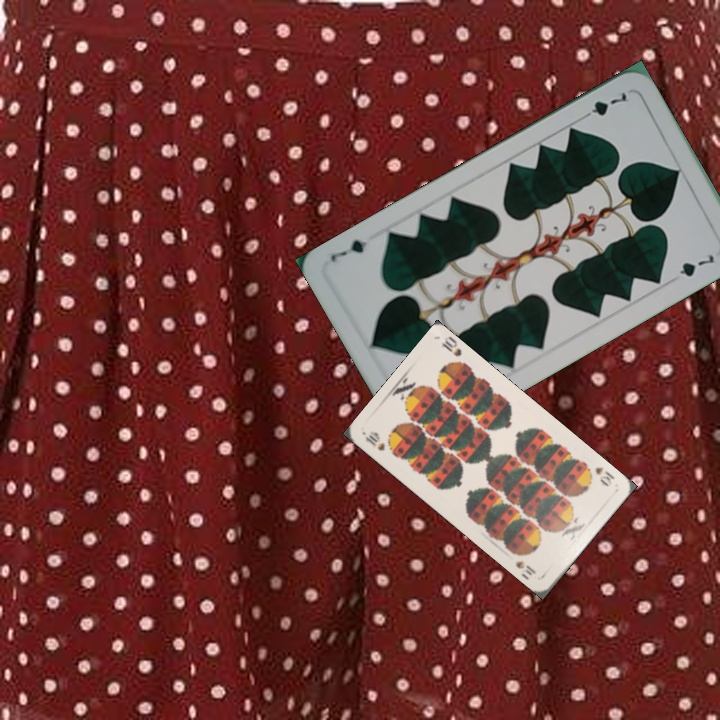G7: (576, 88, 630, 123)
S10: (582, 460, 617, 489), (361, 427, 387, 454)
